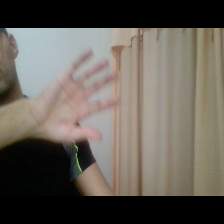left: (27, 47, 123, 147)
